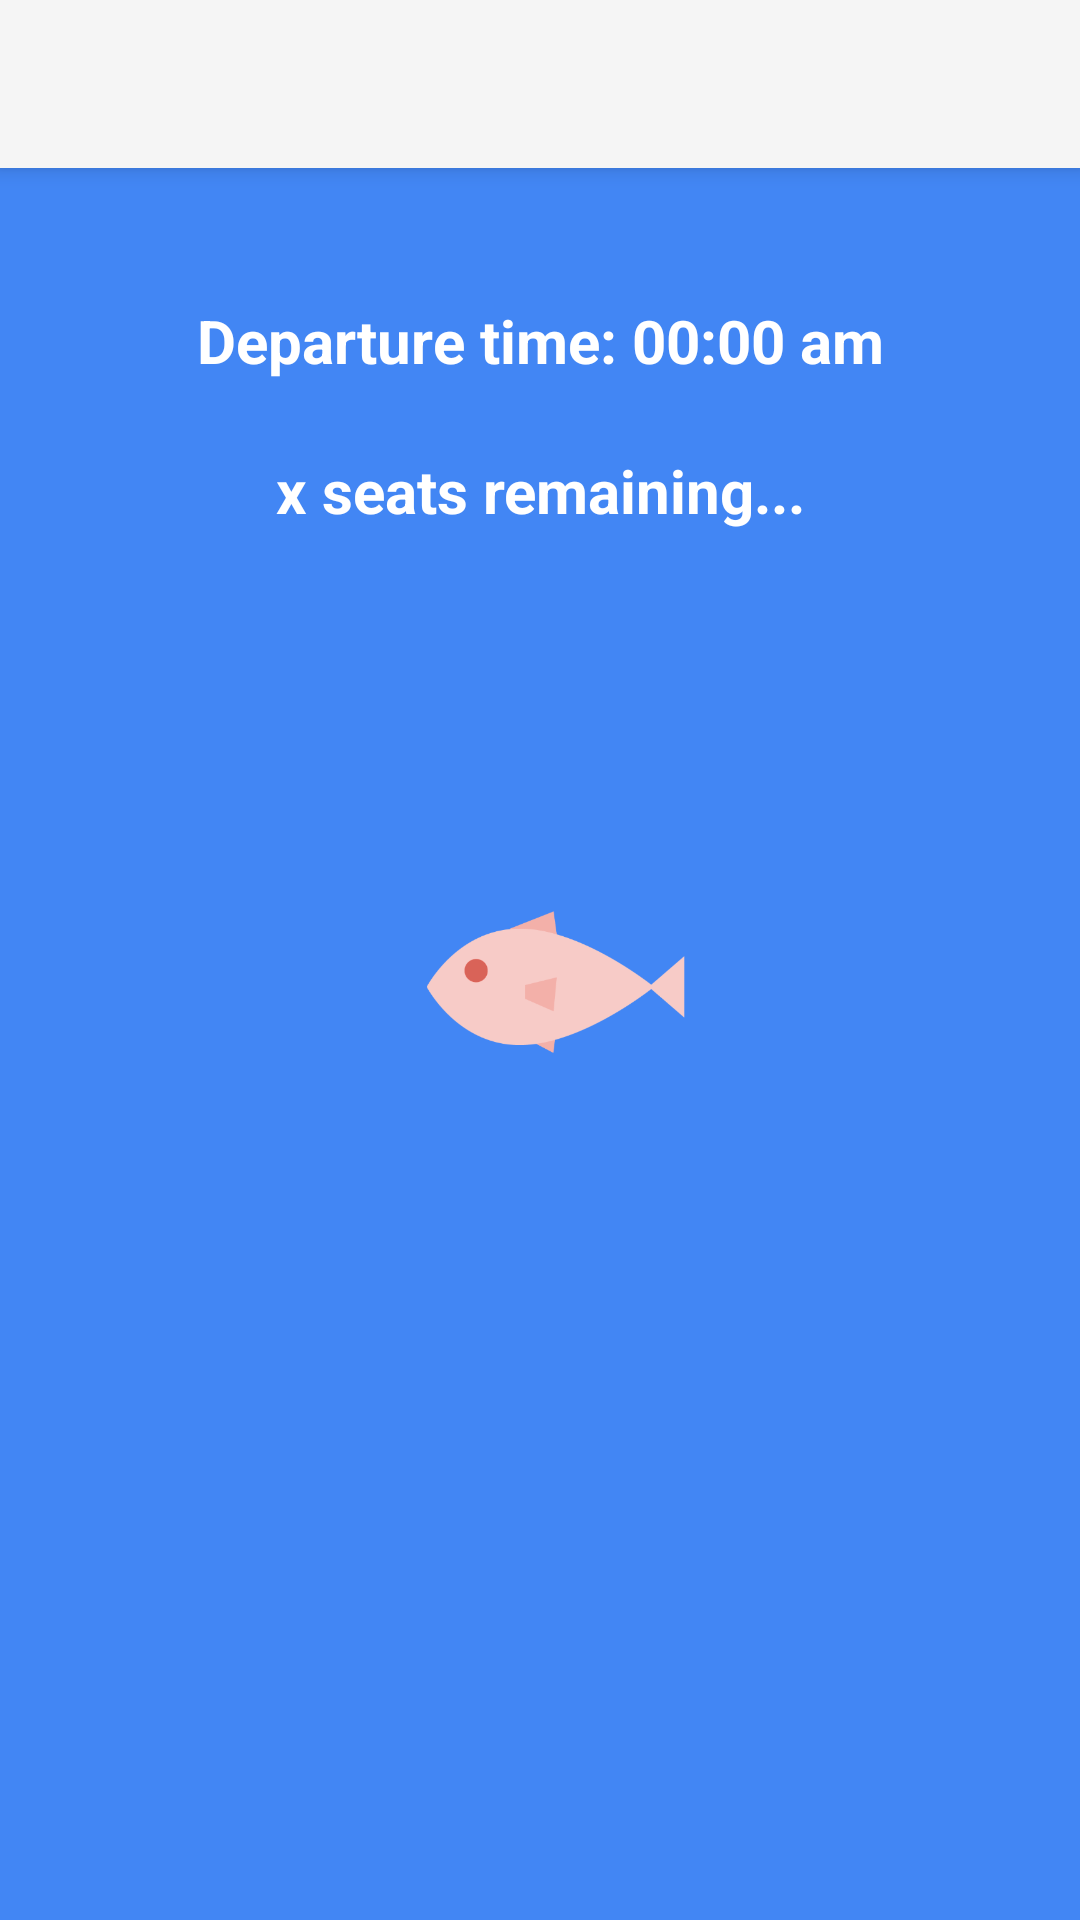

Locate icon controls on the screen. Image size 1080 × 1920, boxes as bbox=(x1, y1, x2, y2).
fish: bbox=(427, 911, 685, 1053)
